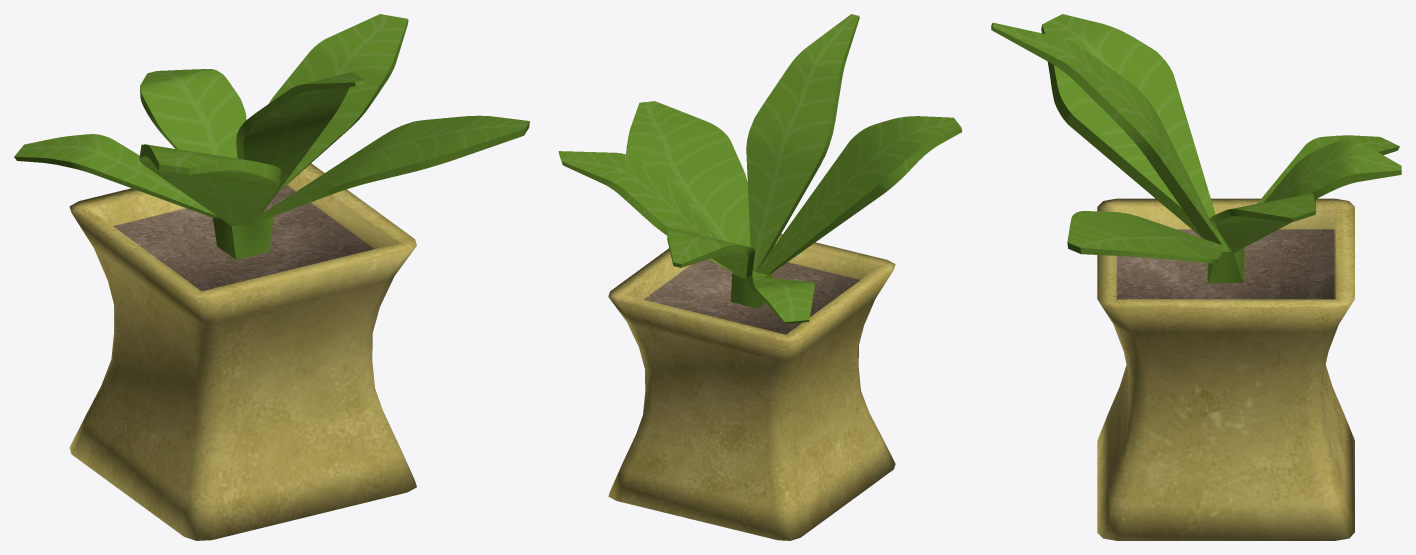
The model's file is FloorPlant_1.glb.
3 renders of one model, left to right at view 1: azimuth 30°, elevation 25°; view 2: azimuth 150°, elevation 25°; view 3: azimuth 270°, elevation 25°, orthographic. The views are drawn at different scales.
Parts seen in each view (by area): view 1: 1_Pot, 1_Leaves; view 2: 1_Pot, 1_Leaves; view 3: 1_Pot, 1_Leaves.
Part boxes in pixels (x1,y1,x2,y2): 1_Pot: (69,163,416,540); 1_Leaves: (14,14,529,259); 1_Pot: (608,234,895,540); 1_Leaves: (558,14,962,323); 1_Pot: (1097,198,1354,540); 1_Leaves: (991,14,1401,283).
Bounding box in the file's own units: 0.8552 × 1.02 × 0.8249.
Materials: 1 (1 with a texture image).
